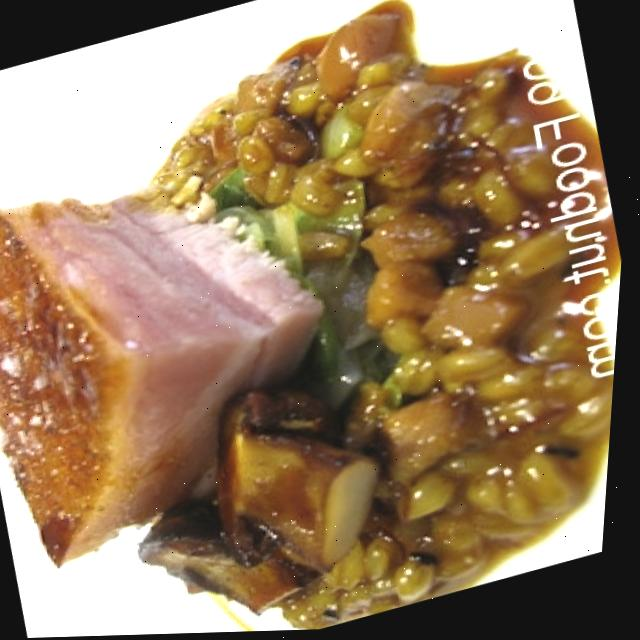牛肉菜式: (0, 20, 635, 640)
